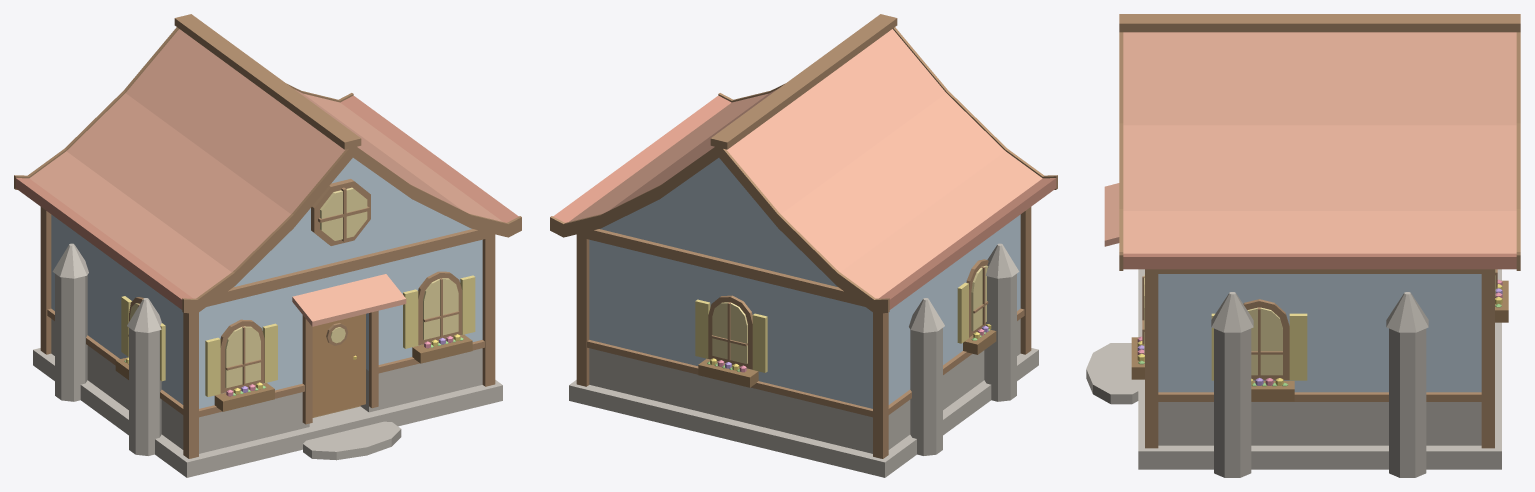
The model's file is chapel.glb.
3 renders of one model, left to right at view 1: azimuth 30°, elevation 25°; view 2: azimuth 150°, elevation 25°; view 3: azimuth 270°, elevation 25°, orthographic. The views are drawn at different scales.
Visible parts, largest first — view 1: Player; view 2: Player; view 3: Player.
Boxes of the visible parts, <box> form: Player: <box>14,14,521,477</box>; Player: <box>550,14,1057,477</box>; Player: <box>1086,14,1520,477</box>.
Size of the model in its own units: 7.07 by 5.89 by 6.45.
